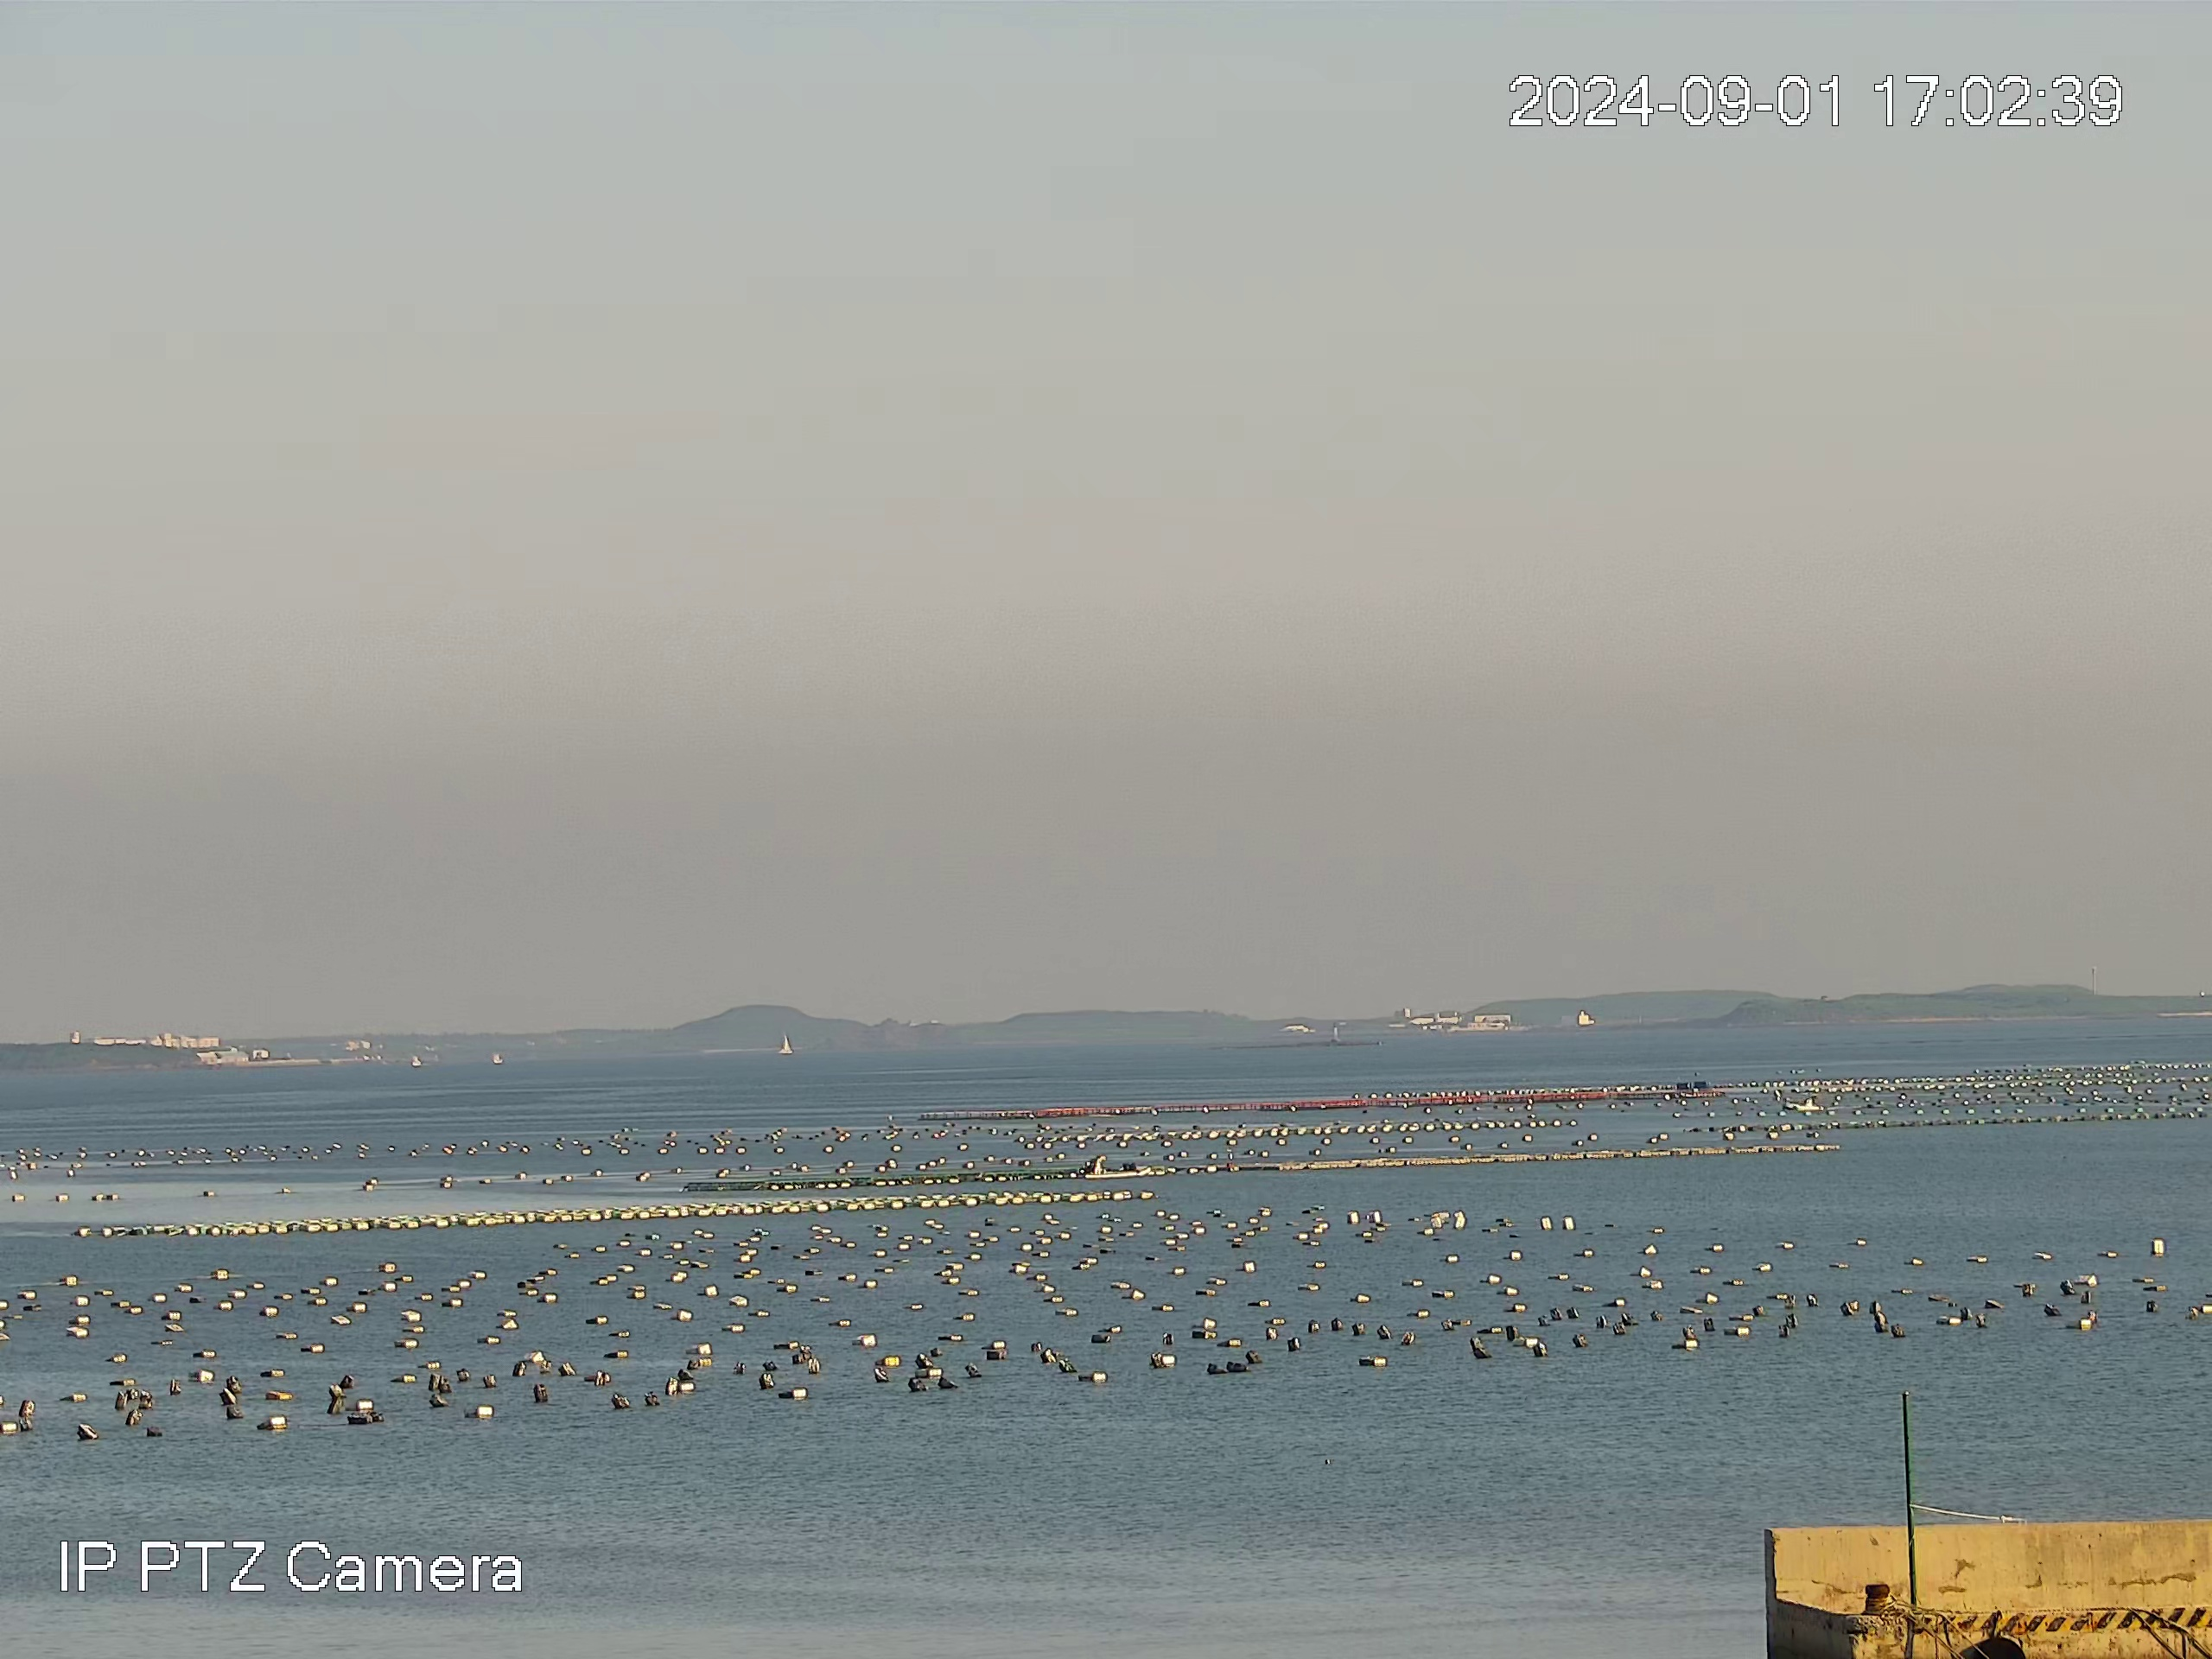boat: (1090, 1150, 1153, 1180), (1787, 1096, 1829, 1112)
